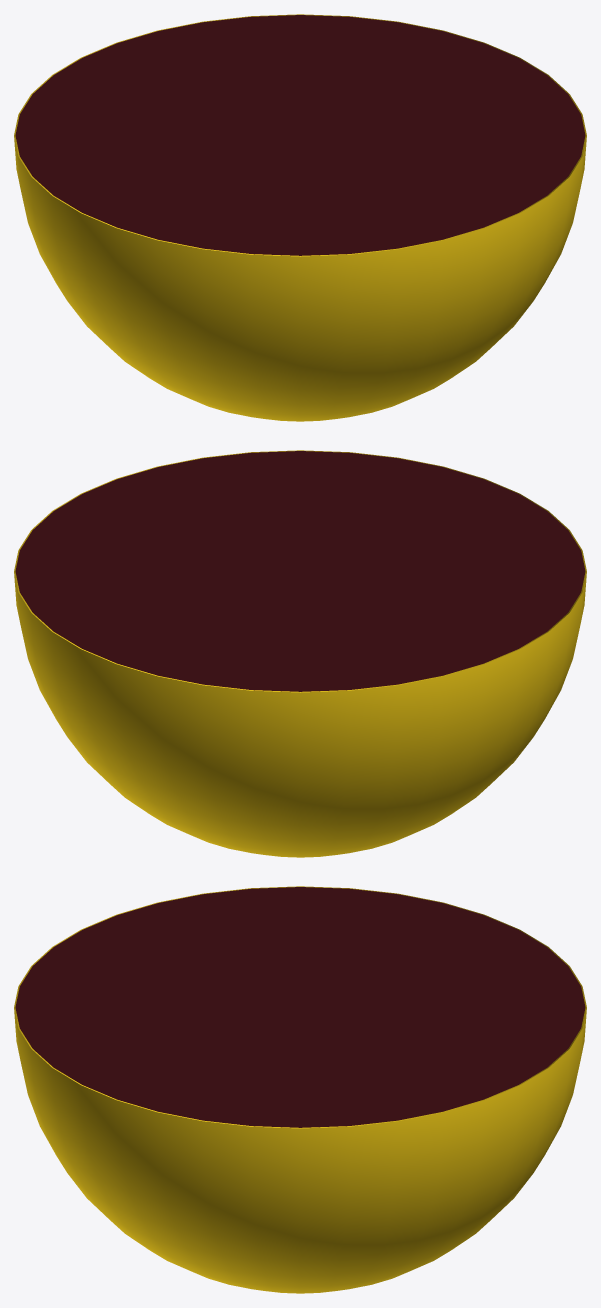
File: chomper_lower.obj
The picture shows the model from 3 angles, top to bottom: view 1: azimuth 30°, elevation 25°; view 2: azimuth 150°, elevation 25°; view 3: azimuth 270°, elevation 25°; orthographic projection.
Parts seen in each view (by area): view 1: lower; view 2: lower; view 3: lower.
Part boxes in pixels (<box>): lower: <box>14,14,586,421</box>; lower: <box>14,450,586,857</box>; lower: <box>14,886,586,1293</box>.
Size of the model in its own units: 2.57 by 1.29 by 2.57.
